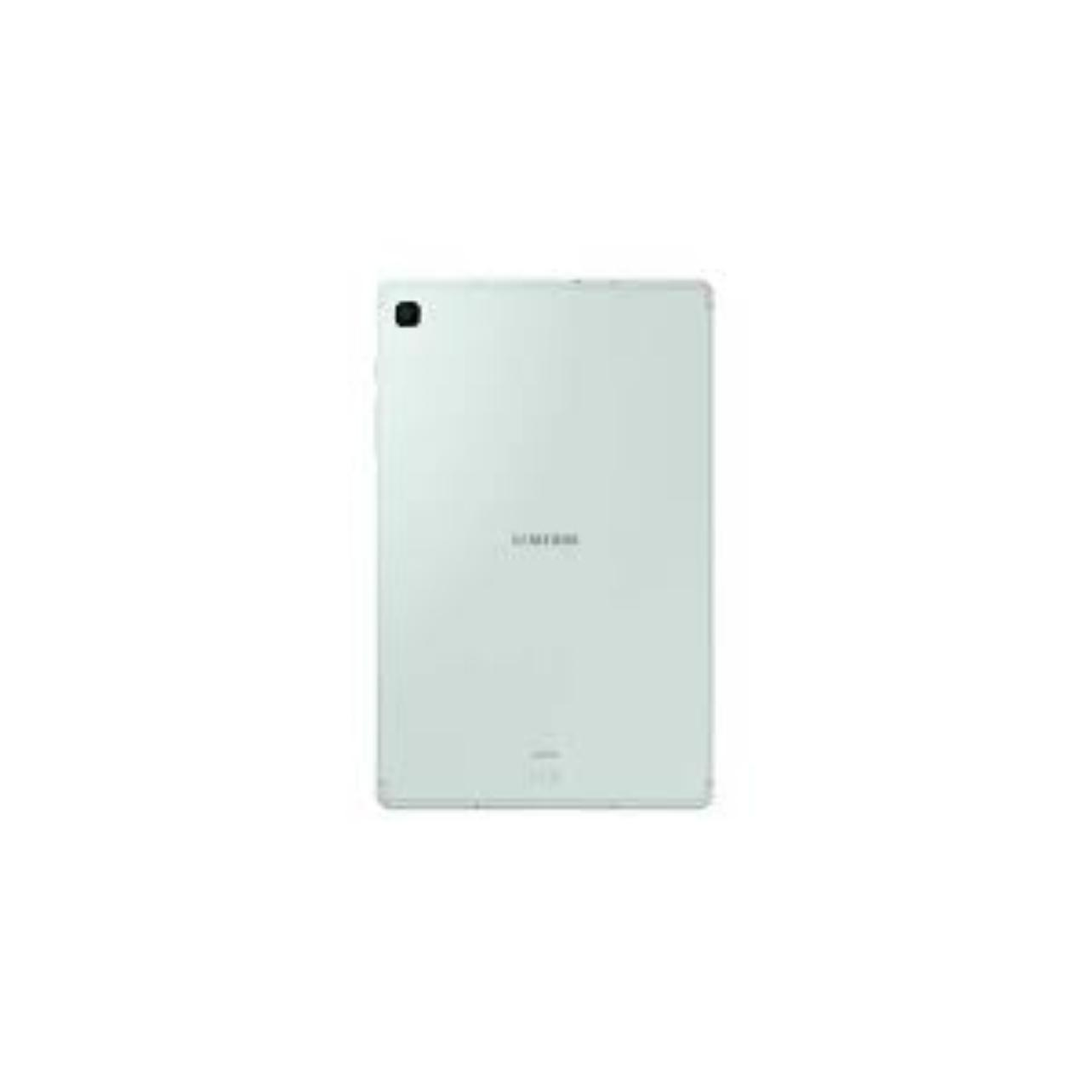Tablet_PC: (371, 275, 716, 817)
